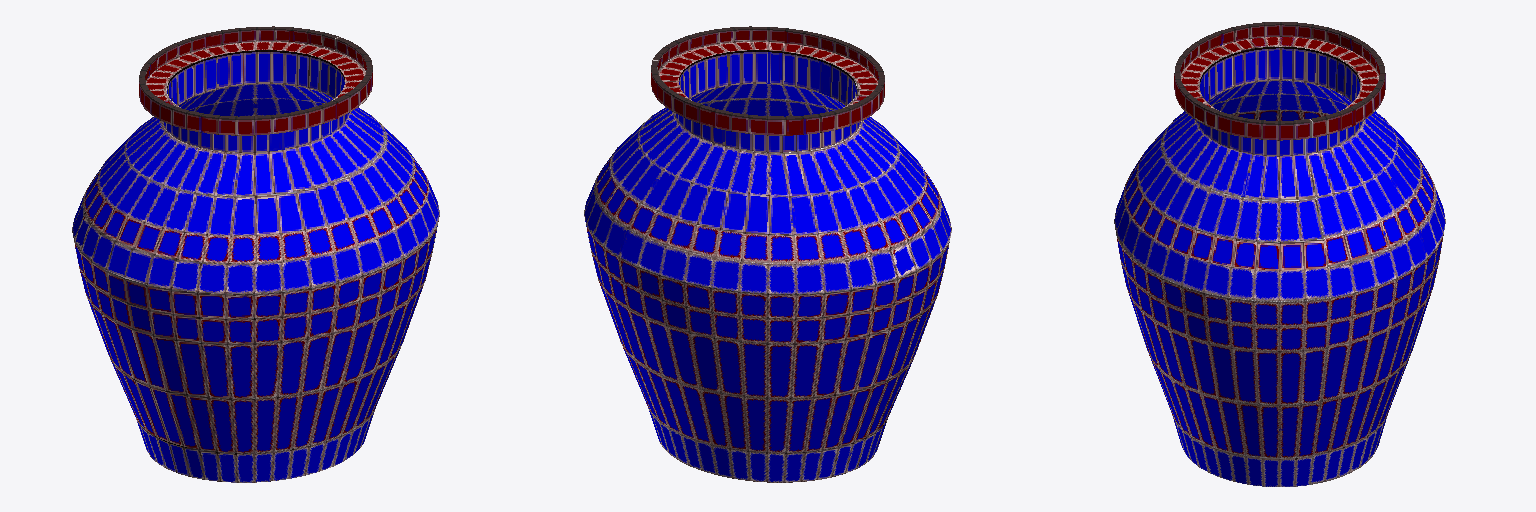
3 renders of one model, left to right at view 1: azimuth 30°, elevation 25°; view 2: azimuth 150°, elevation 25°; view 3: azimuth 270°, elevation 25°, orthographic.
Visible parts, largest first — view 1: Circle; view 2: Circle; view 3: Circle.
Boxes of the visible parts, <box> form: Circle: <box>72,26,439,482</box>; Circle: <box>584,26,951,482</box>; Circle: <box>1114,22,1445,486</box>.
Bounding box in the file's own units: 4.75 × 5.06 × 4.15.
1 materials, 1 textured.